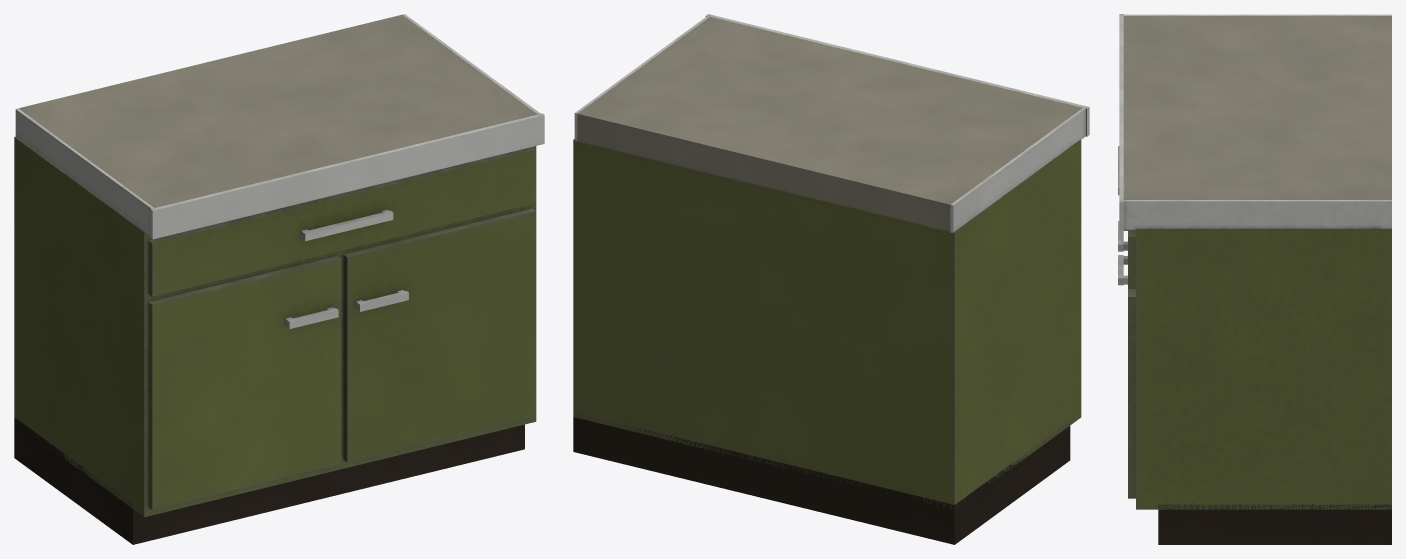
The model's file is H_KitchenBase.fbx.
3 renders of one model, left to right at view 1: azimuth 30°, elevation 25°; view 2: azimuth 150°, elevation 25°; view 3: azimuth 270°, elevation 25°, orthographic. The views are drawn at different scales.
Visible parts, largest first — view 1: H_KitchenBase; view 2: H_KitchenBase; view 3: H_KitchenBase.
Boxes of the visible parts, x1=… form: H_KitchenBase: x1=14, y1=14, x2=544, y2=544; H_KitchenBase: x1=573, y1=14, x2=1089, y2=544; H_KitchenBase: x1=1118, y1=14, x2=1391, y2=544.
Size of the model in its own units: 400 by 340 by 246.
Materials: 1 (1 with a texture image).
